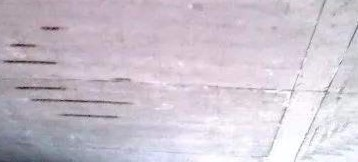Exposed reinforcement: (31, 98, 129, 105), (58, 113, 119, 119), (3, 59, 58, 65), (13, 85, 66, 91), (9, 43, 37, 48), (40, 26, 60, 32)
